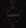No entry: (5, 6, 21, 23)
